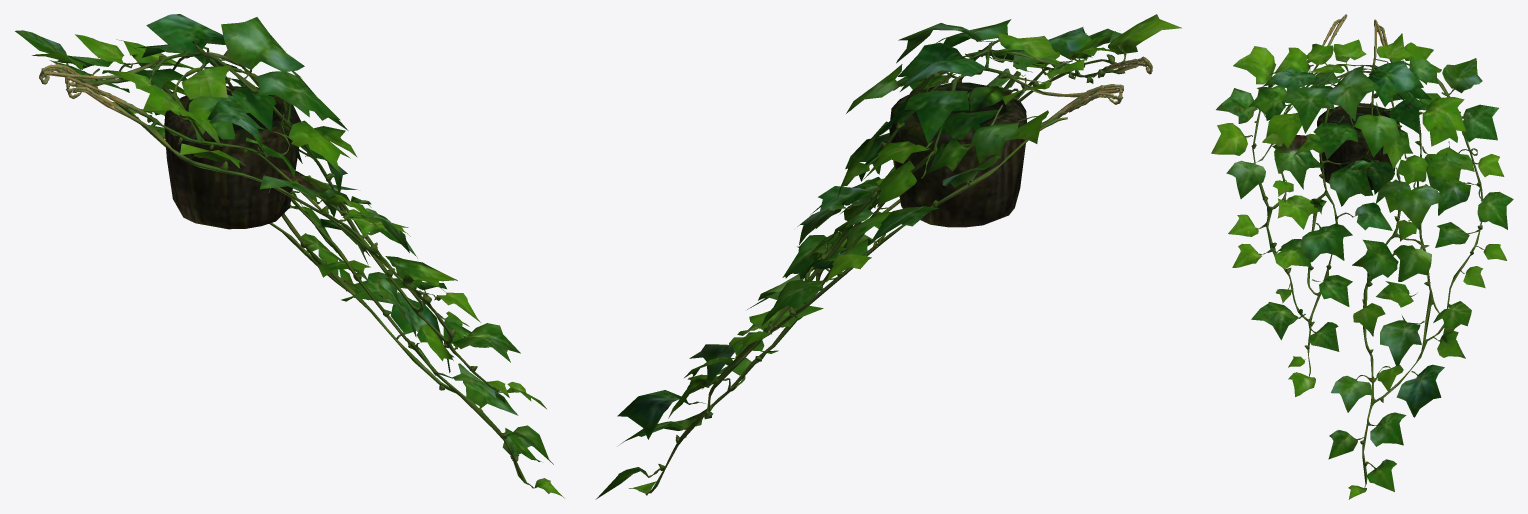
File: vine-branch-b.lod0.glb
3 views of the same model, side by side, from view 1: azimuth 30°, elevation 25°; view 2: azimuth 150°, elevation 25°; view 3: azimuth 270°, elevation 25° (orthographic). The views are drawn at different scales.
Visible parts, largest first — view 1: Object_4; view 2: Object_4; view 3: Object_4.
Part boxes in pixels (x1,y1,x2,y2): Object_4: (15, 14, 564, 498); Object_4: (595, 14, 1181, 499); Object_4: (1211, 14, 1513, 499).
Size of the model in its own units: 2.93 by 3 by 2.45.
1 material, 1 textured.
